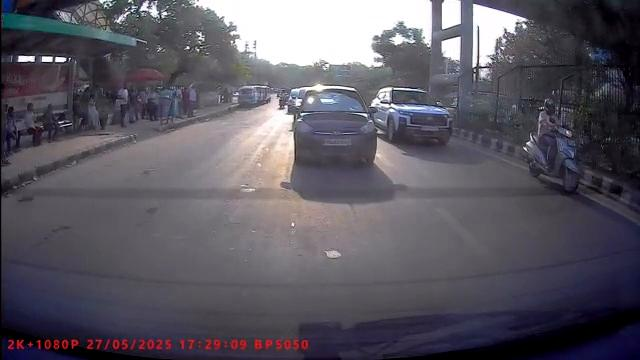motorcycle_with_helmet: (523, 97, 585, 195)
